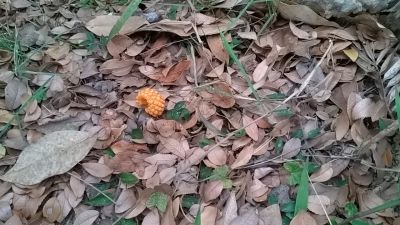eggs: (135, 86, 165, 116)
